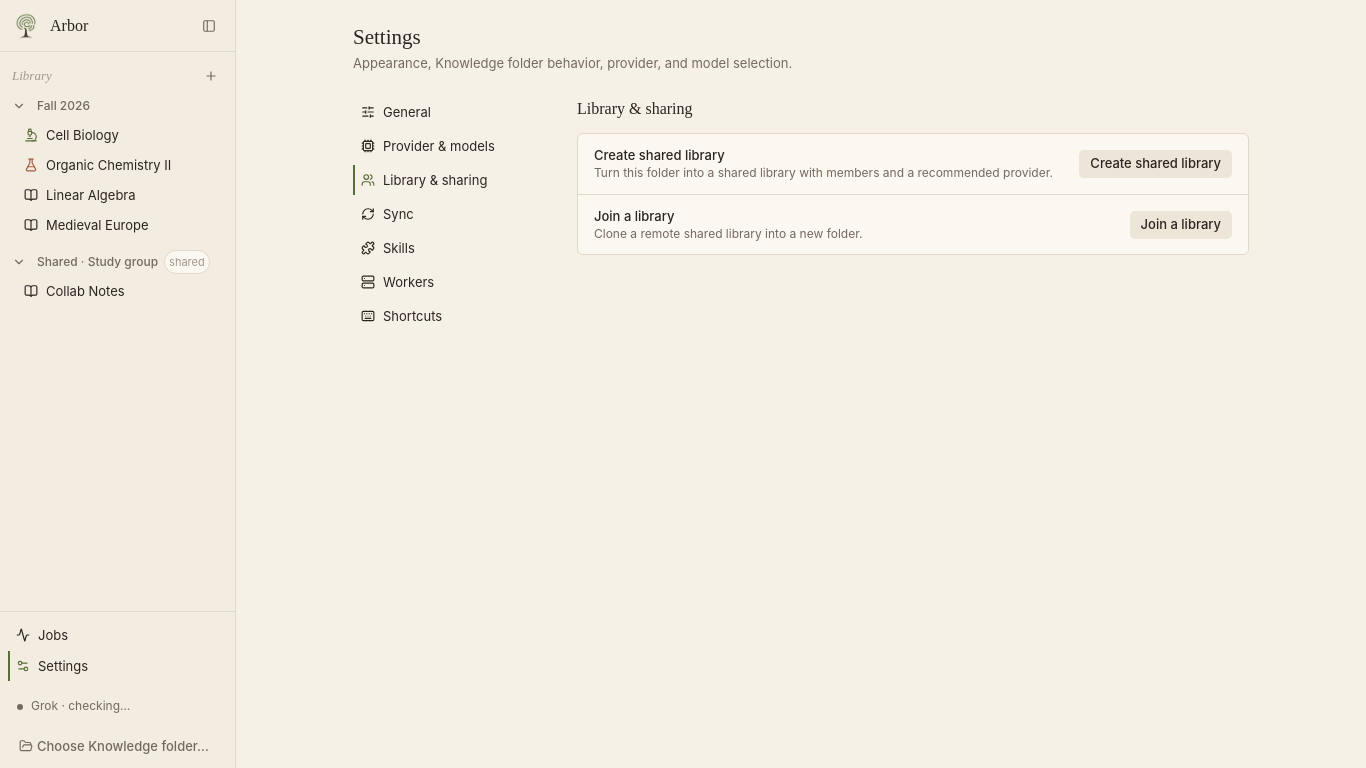
Test: settings sharing (14b) › create library uses null name and persists returned doc name
The width and height of the screenshot is (1366, 768).
Step 1. Click the button "Create shared library" → (1156, 164), box top-left (1079, 150), bottom-right (1232, 178)
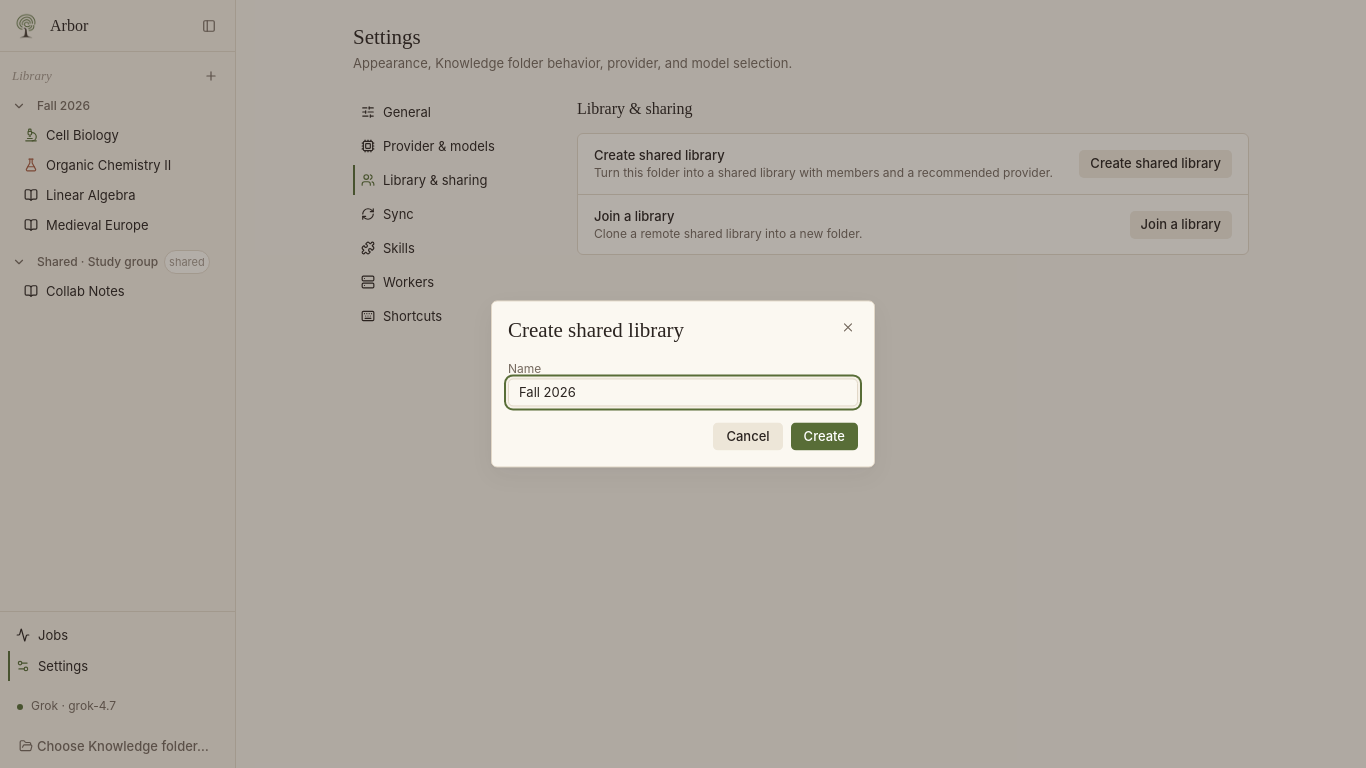
Step 2. Clear the field named "Library name" → (683, 392), box top-left (508, 378), bottom-right (858, 406)
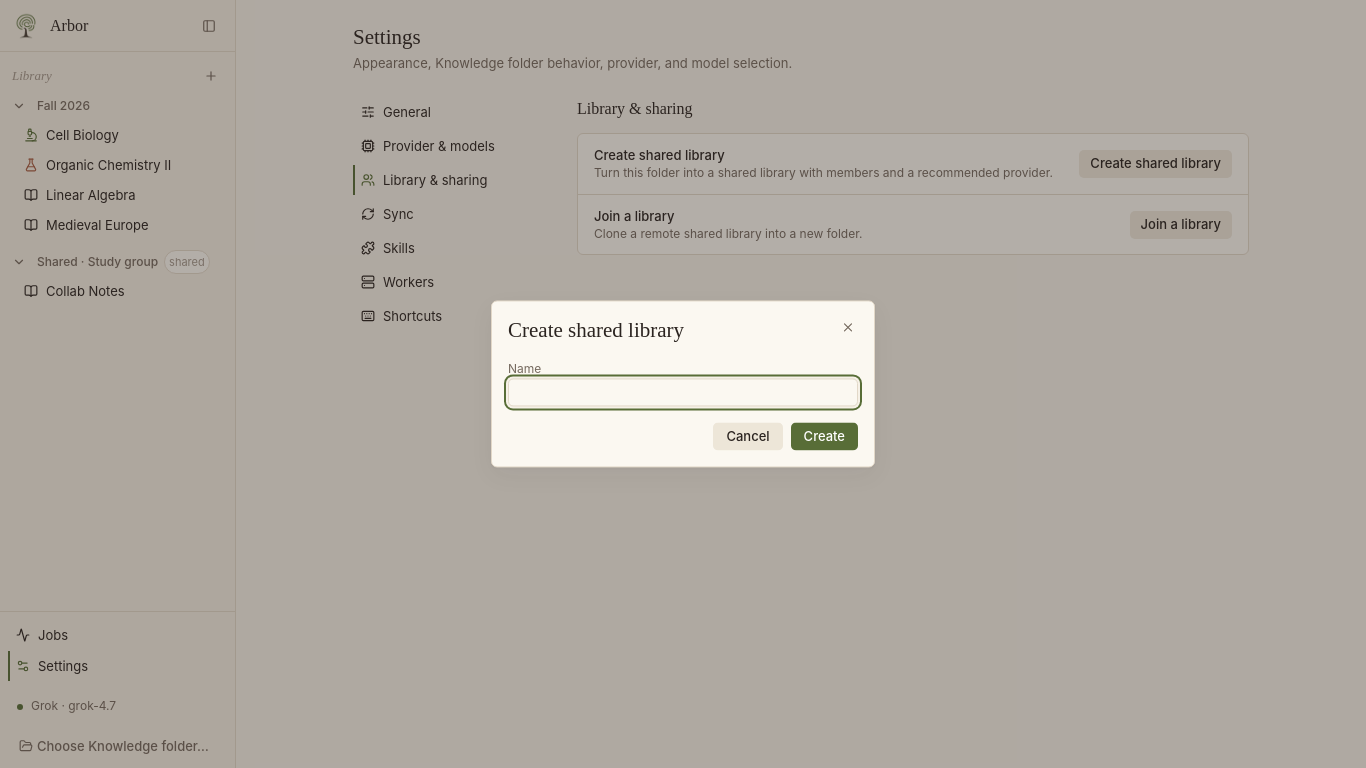
Step 3. Click the button "Create" → (824, 436), box top-left (791, 422), bottom-right (858, 450)
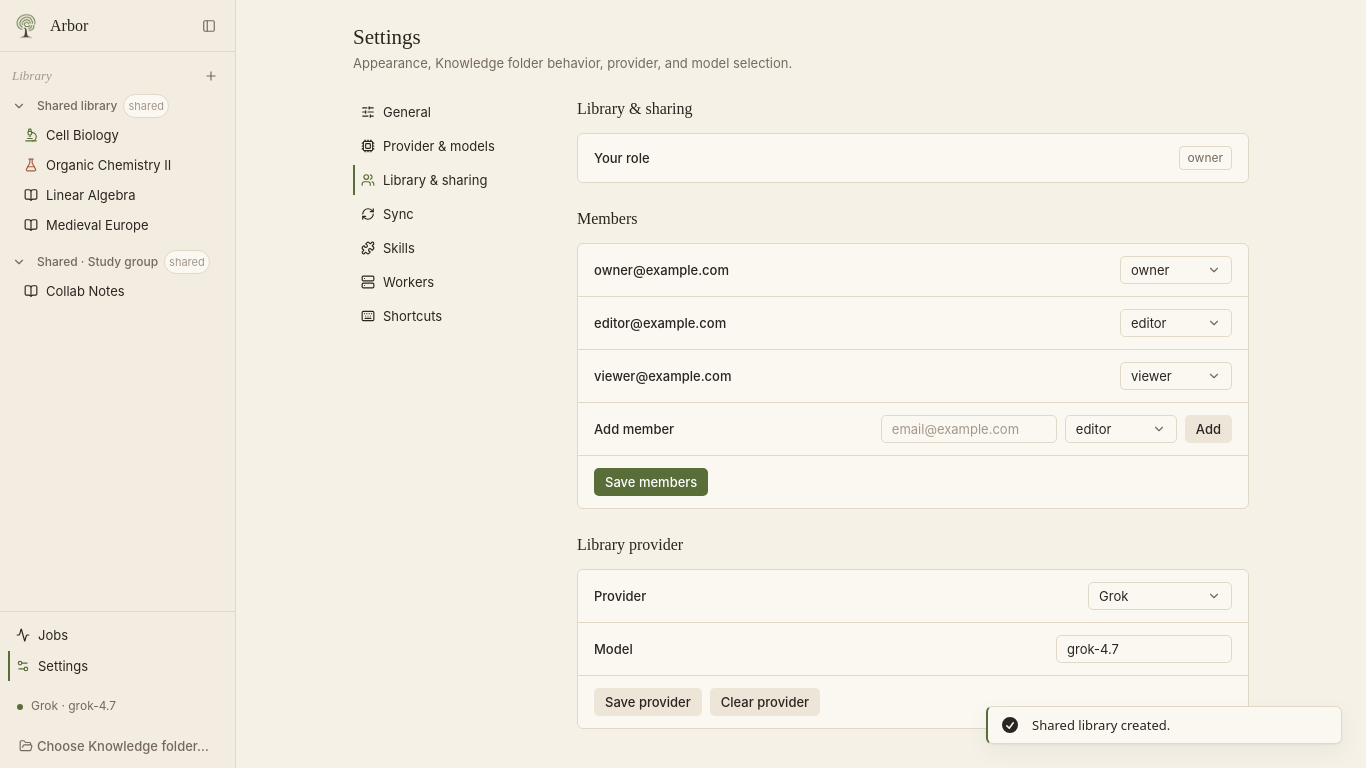
Expected: the text "Shared library" is shown, top-left (37, 98), bottom-right (118, 114)
